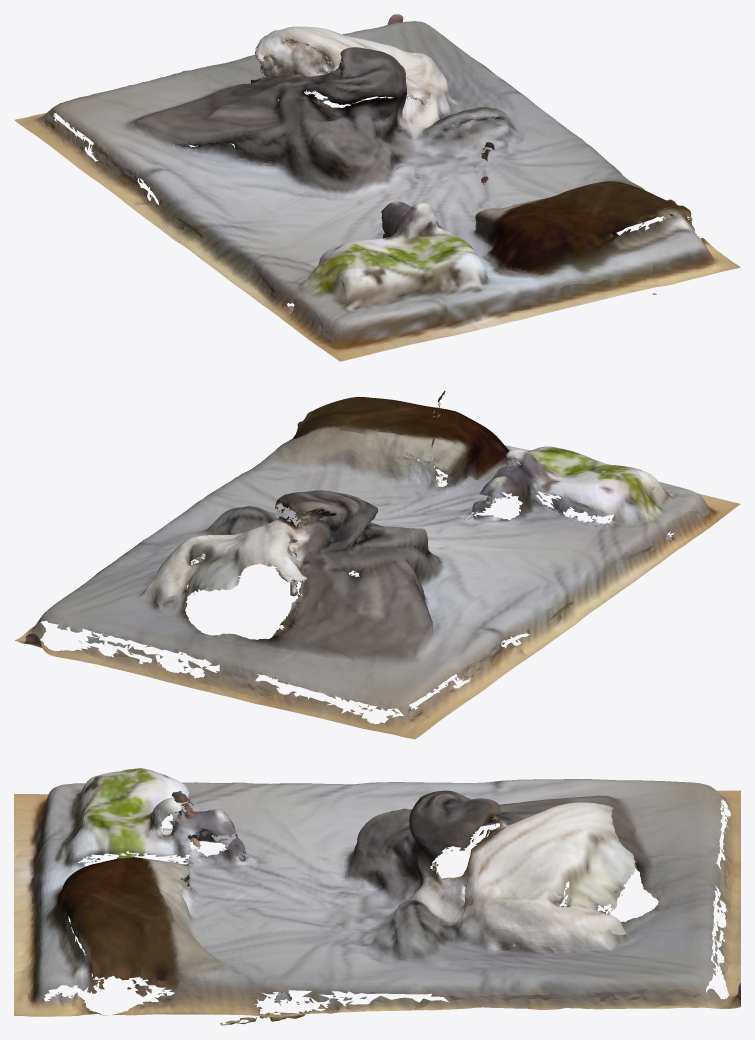
File: Matless.obj
3 renders of one model, top to bottom at view 1: azimuth 30°, elevation 25°; view 2: azimuth 150°, elevation 25°; view 3: azimuth 270°, elevation 25°, orthographic. The views are drawn at different scales.
Visible parts, largest first — view 1: mesh; view 2: mesh; view 3: mesh.
Boxes of the visible parts, x1=… form: mesh: x1=14, y1=14, x2=740, y2=361; mesh: x1=15, y1=391, x2=740, y2=739; mesh: x1=14, y1=768, x2=740, y2=1025.
Size of the model in its own units: 1.51 by 0.4453 by 2.13.
1 material, 1 textured.
